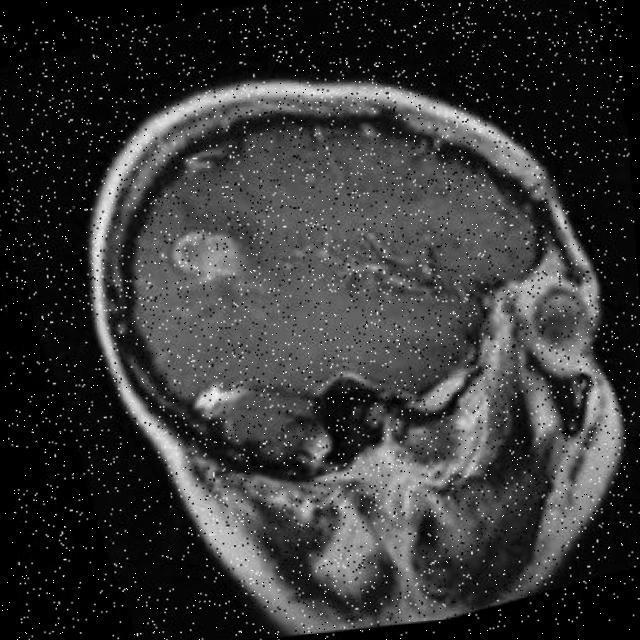CN: (140, 162, 247, 320)
